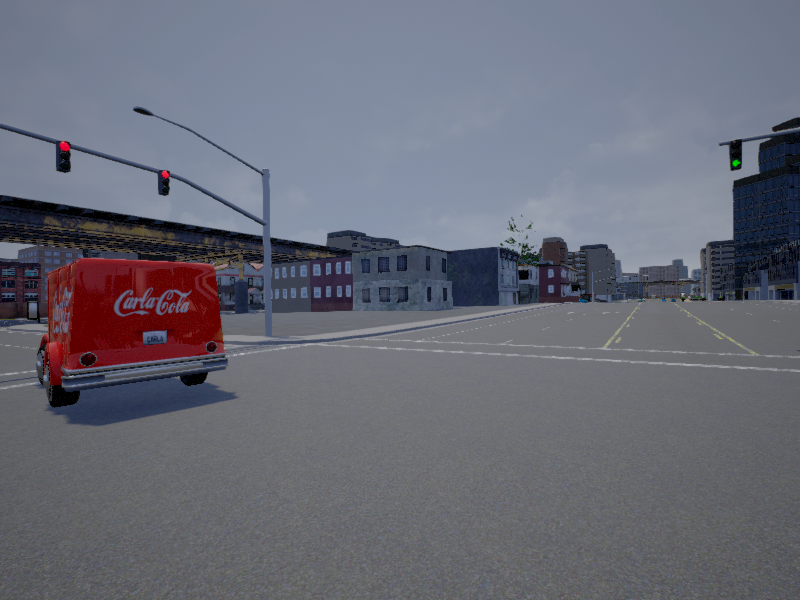Benign: (34, 259, 224, 408)
